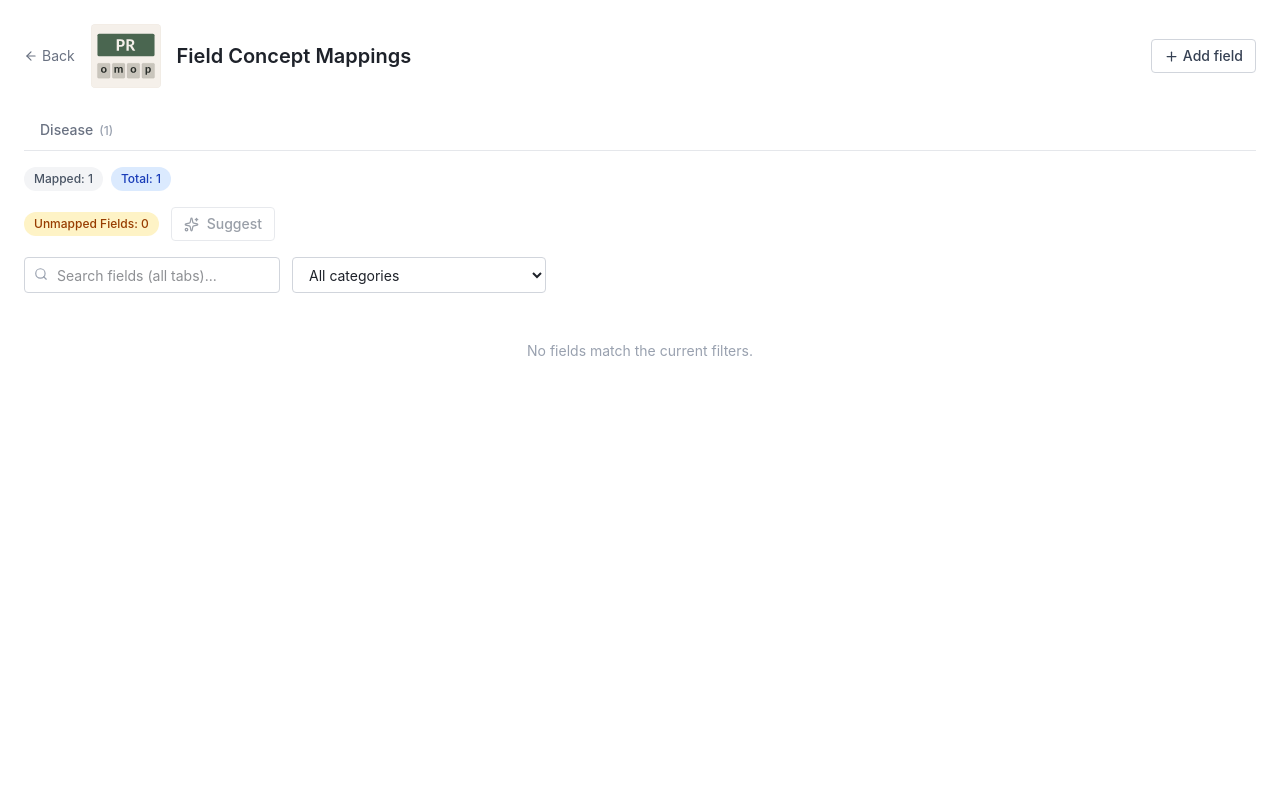
Test: keeps the allowed value uncoded when the mapping is reopened after code removal
Click the button "Disease(1)" at coordinates (77, 131), box [24,112,129,150]
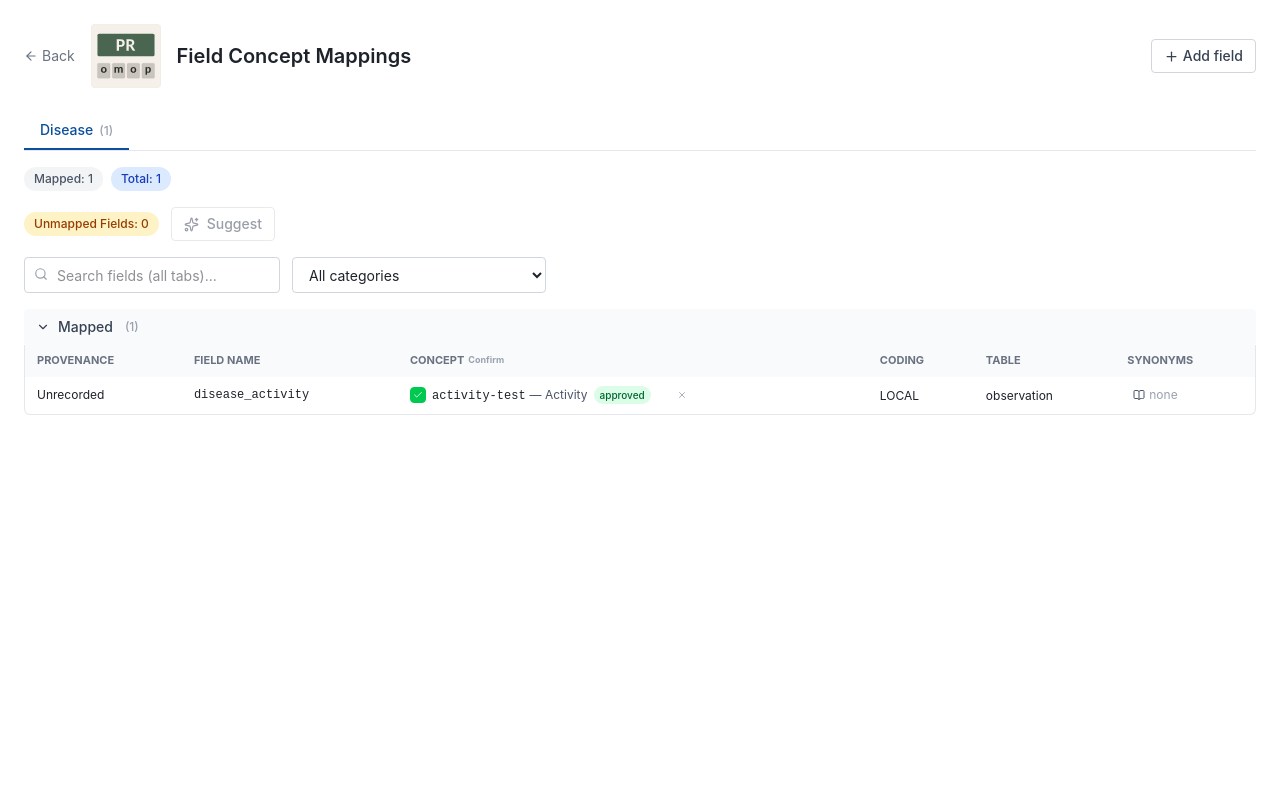
Click the text "activity-test" at coordinates (479, 396), box [432,389,526,403]
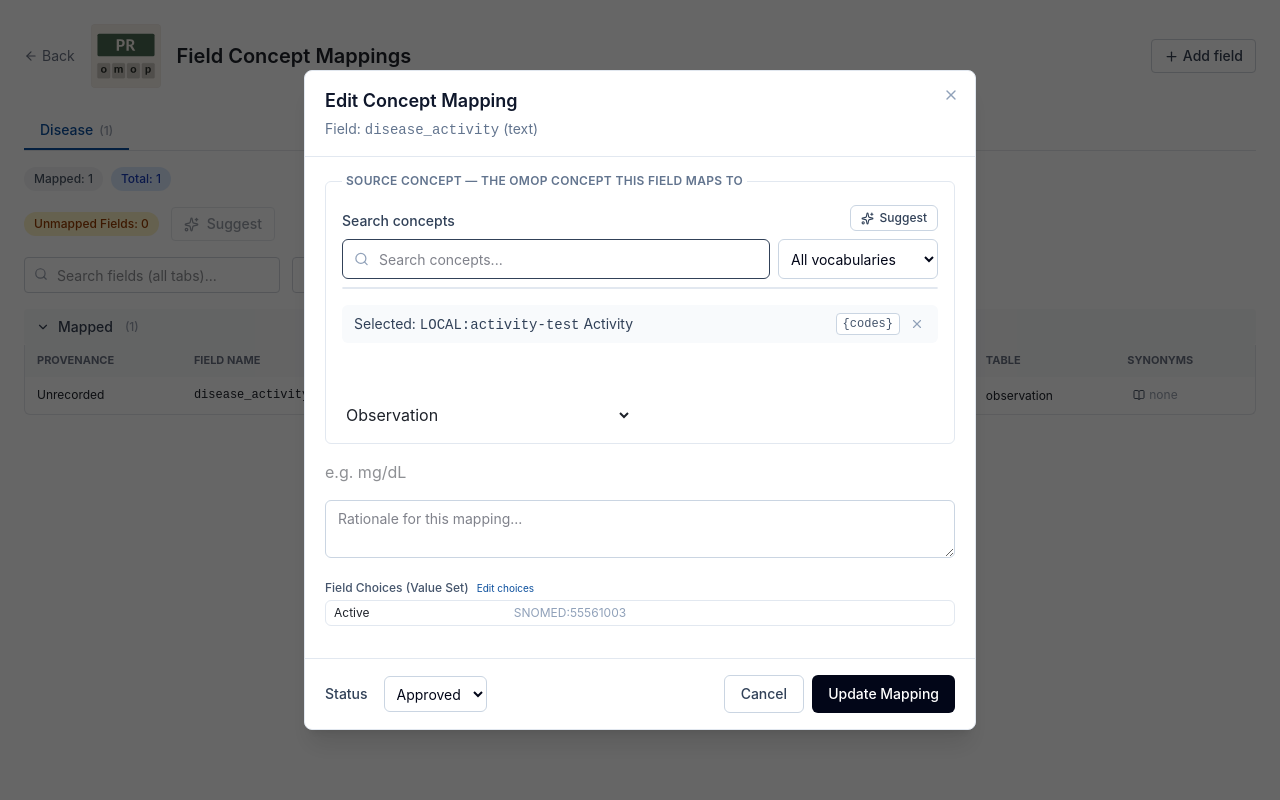
Now the text "SNOMED:55561003" is shown, box [506,601,954,625]
Click the button "Edit choices" at coordinates (505, 588), box [477,580,534,596]
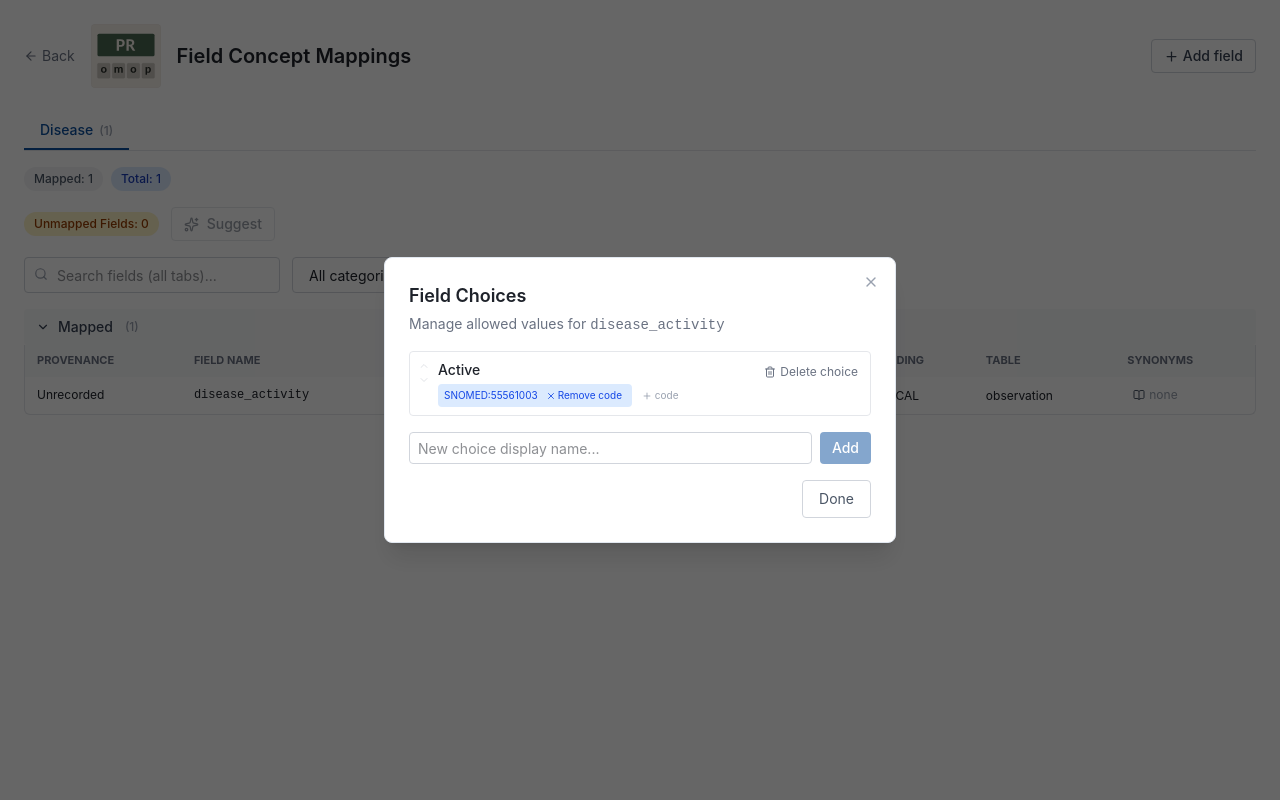
Click the button with aria-label "Remove code SNOMED:55561003 from Active" at coordinates (584, 396), box [542,386,626,405]
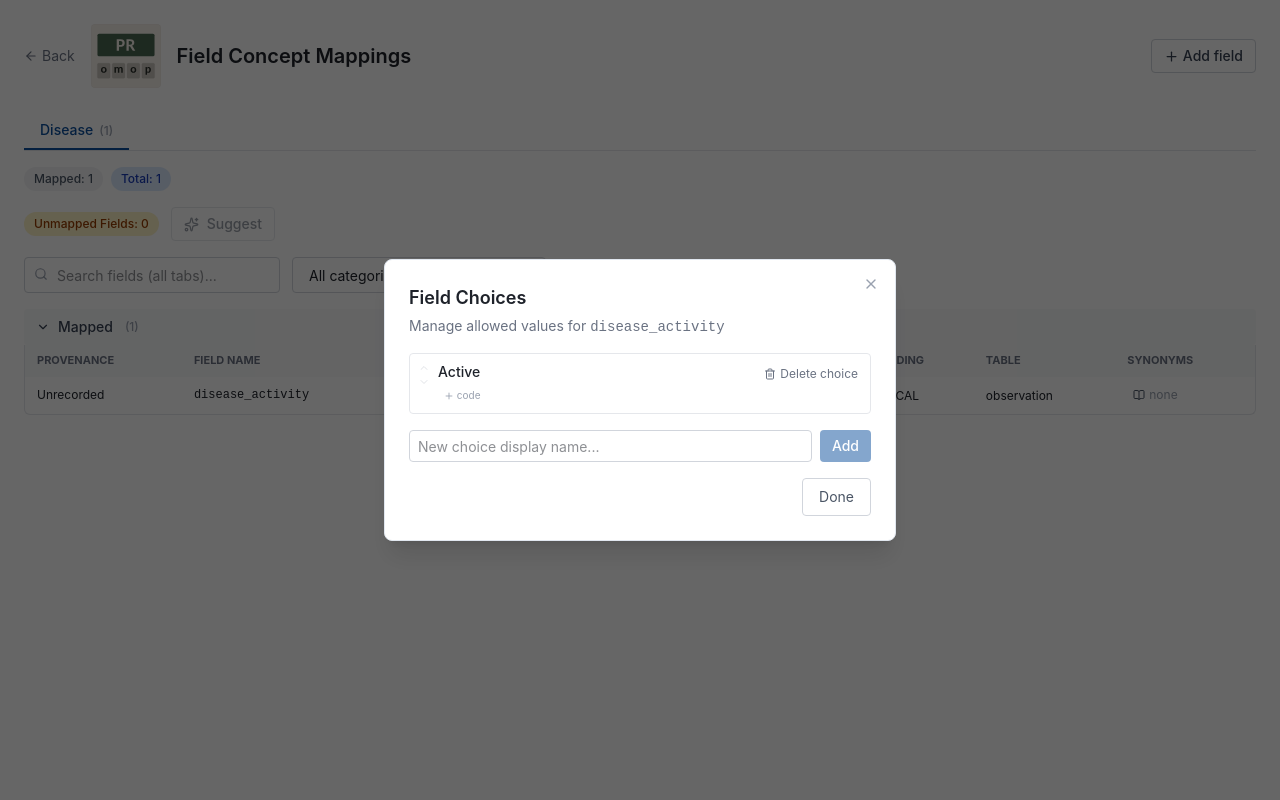
Now the text "Active" is shown, box [438,363,480,380]
Now the text "SNOMED:55561003" is gone
Click the button "Done" at coordinates (837, 497), box [802,478,871,516]
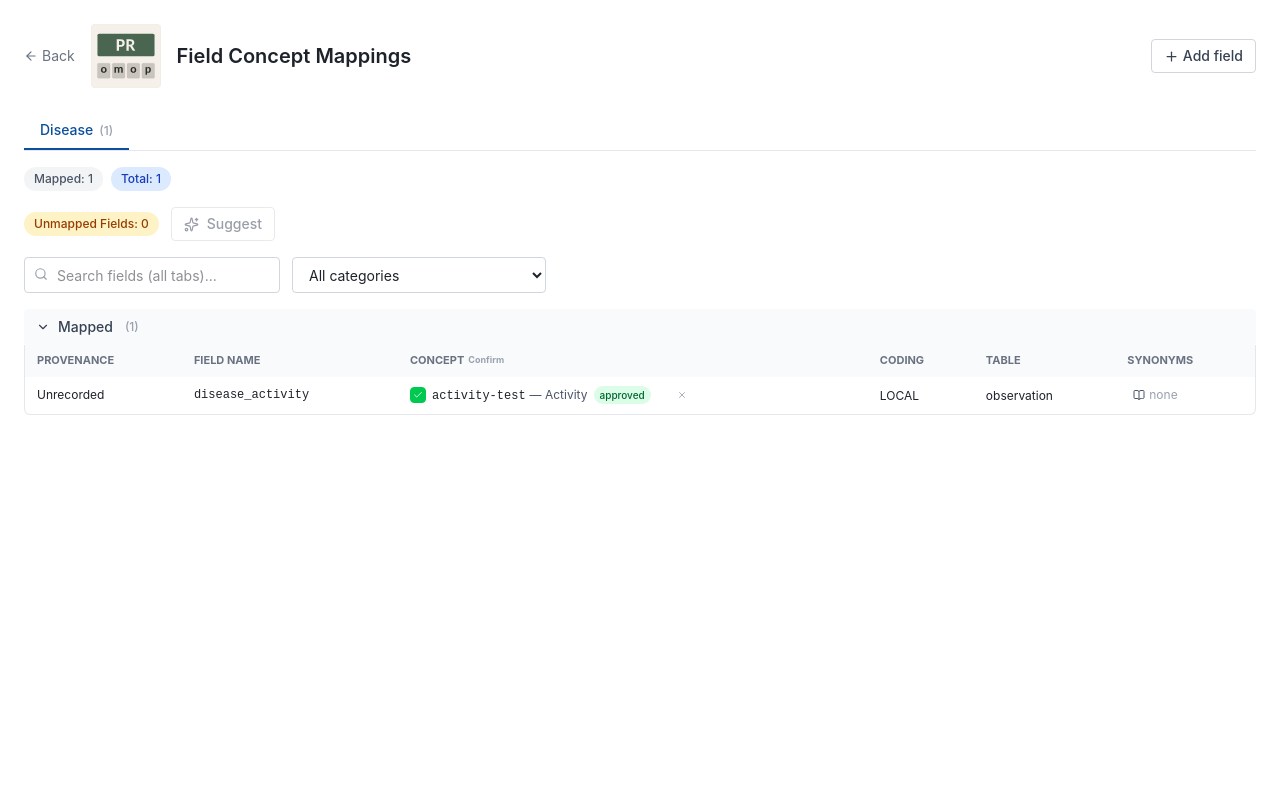
Click the text "activity-test" at coordinates (479, 396), box [432,389,526,403]
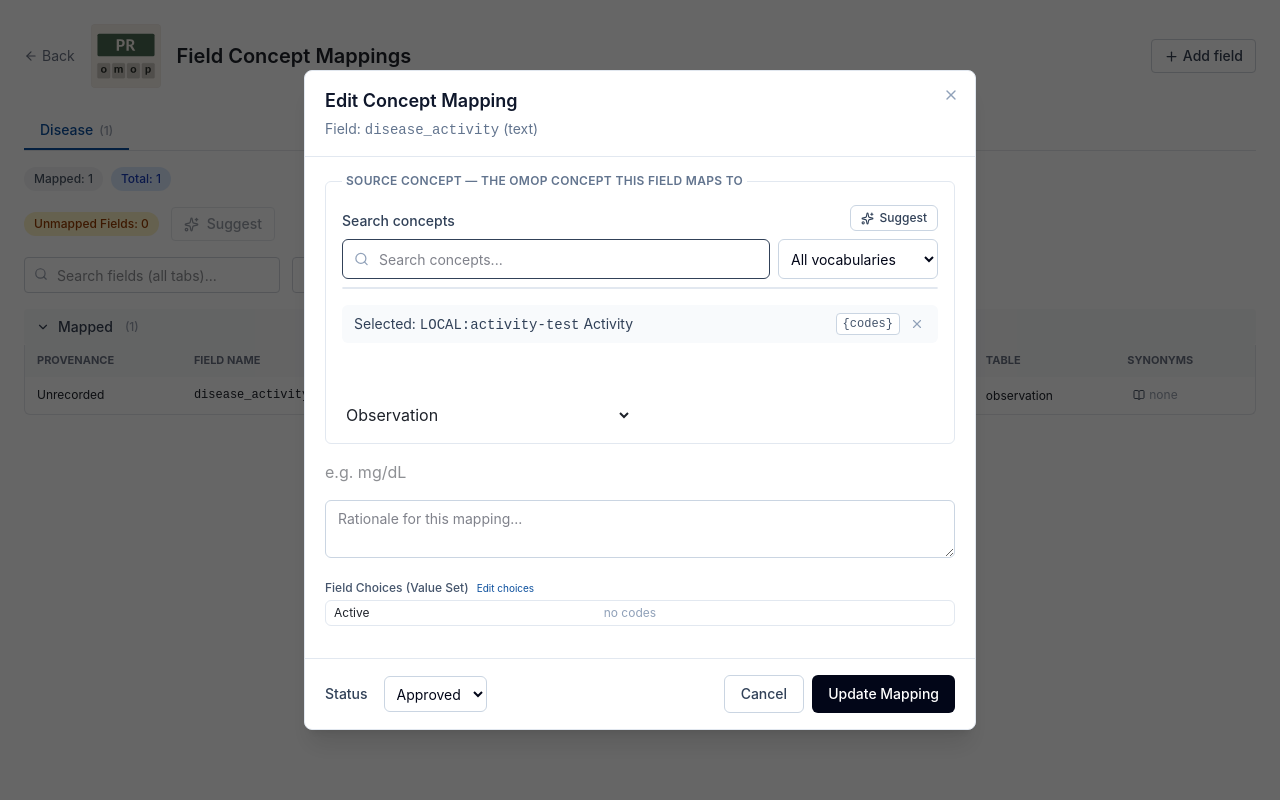
Expected: the text "SNOMED:55561003" is not shown
Now the cell "Active" is shown, box [326,601,596,625]
Now the cell "no codes" is shown, box [596,601,954,625]
